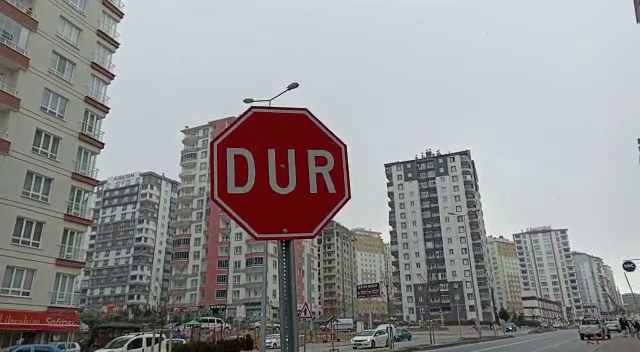stop: (207, 104, 354, 245)
